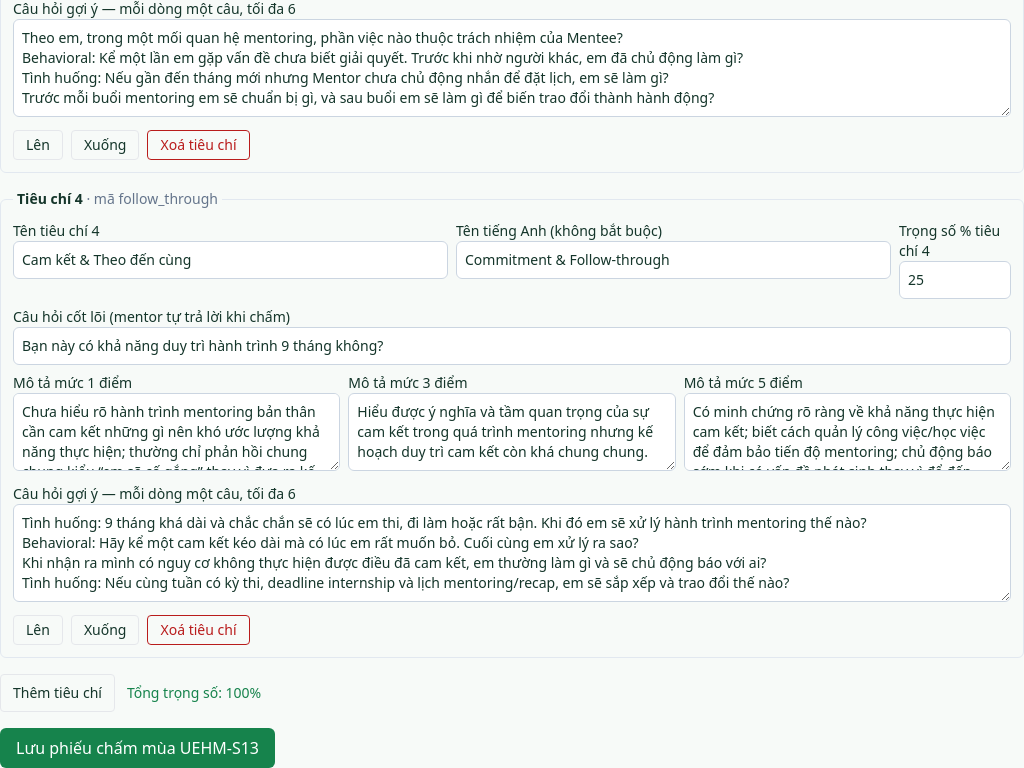
Test: database từ chối (người khác vừa lưu): báo lỗi, không tải lại trang
(page scrolled)
Step 1. Click the button "Lưu phiếu chấm mùa UEHM-S13" → (138, 748), box [0, 728, 275, 767]
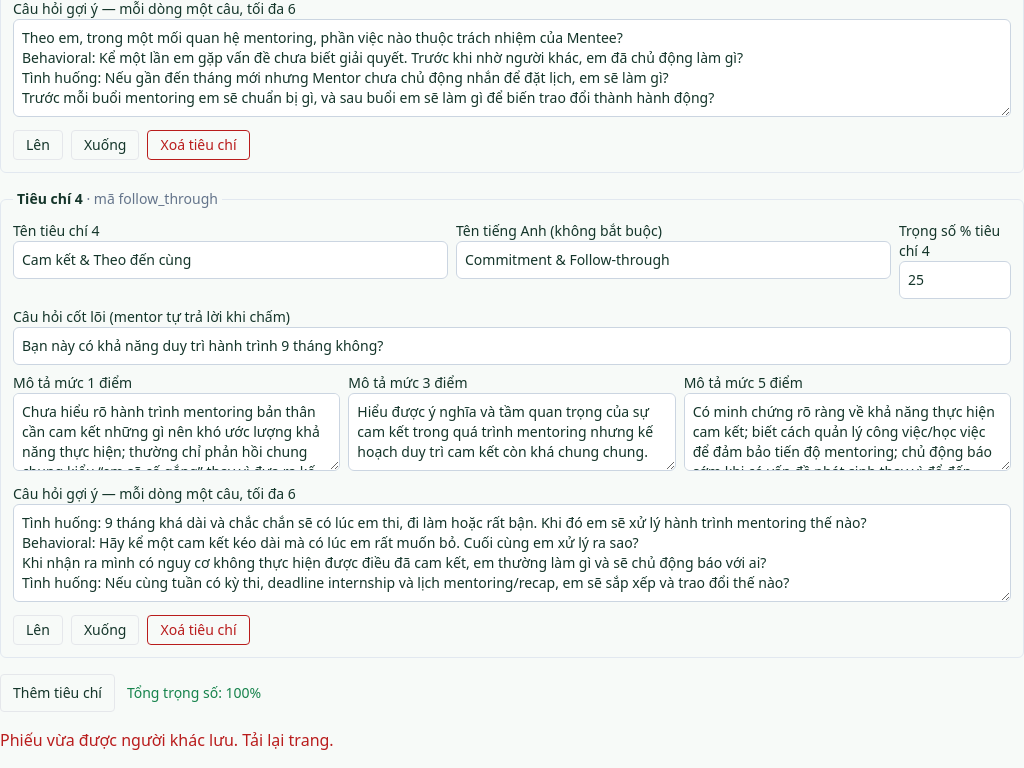
Check: the message "Phiếu vừa được người khác lưu. Tải lại trang." is shown, box [0, 729, 334, 751]
